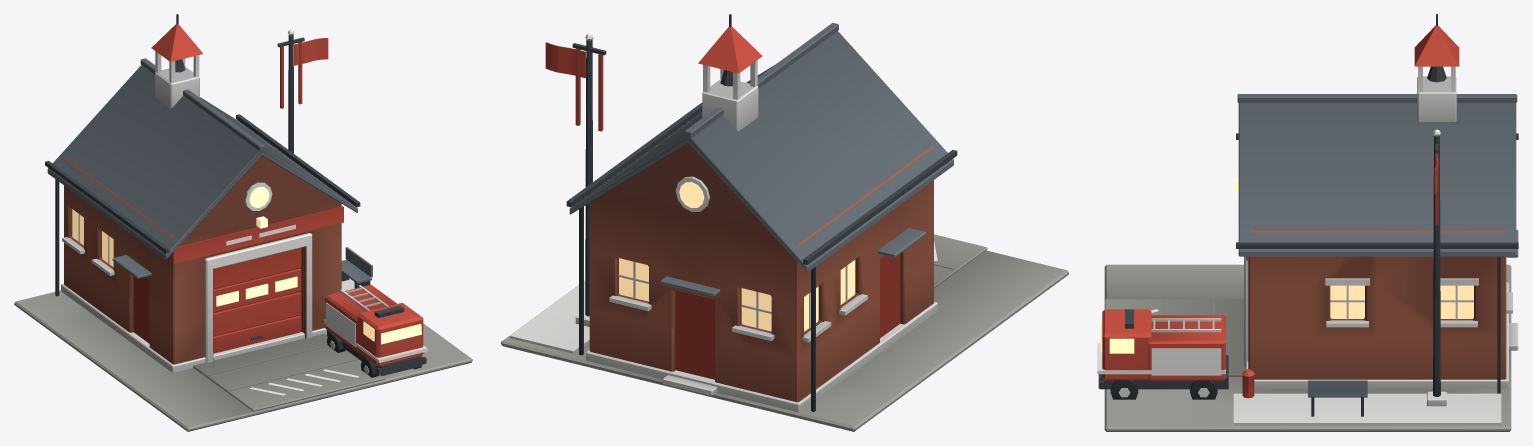
File: village-fire.glb
The picture shows the model from 3 angles, left to right: view 1: azimuth 30°, elevation 25°; view 2: azimuth 150°, elevation 25°; view 3: azimuth 270°, elevation 25°; orthographic projection. The views are drawn at different scales.
Visible parts, largest first — view 1: VFire1, VFire2, VFire1.Flag.0; view 2: VFire1, VFire1.Flag.0; view 3: VFire1, VFire2.
Part boxes in pixels (bbox=[...]): VFire1: bbox=[14, 14, 472, 431]; VFire2: bbox=[56, 174, 427, 377]; VFire1.Flag.0: bbox=[294, 38, 328, 65]; VFire1: bbox=[501, 14, 1068, 431]; VFire1.Flag.0: bbox=[545, 42, 585, 78]; VFire1: bbox=[1104, 14, 1518, 431]; VFire2: bbox=[1097, 250, 1513, 399].
Bounding box in the file's own units: 7.8 × 7.35 × 8.5.
